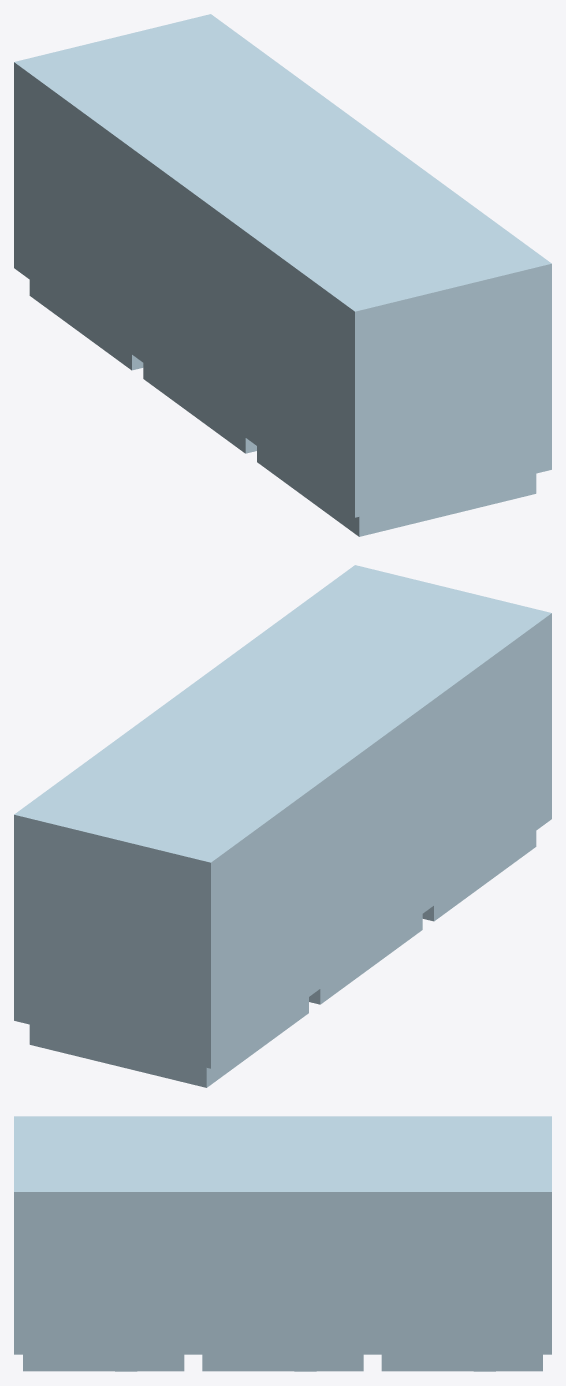
Rendered from Aktenschrank.gltf.
3 renders of one model, top to bottom at view 1: azimuth 30°, elevation 25°; view 2: azimuth 150°, elevation 25°; view 3: azimuth 270°, elevation 25°, orthographic. The views are drawn at different scales.
Parts seen in each view (by area): view 1: Part 1; view 2: Part 1; view 3: Part 1.
Part boxes in pixels (<box>): Part 1: <box>14,14,551,536</box>; Part 1: <box>14,565,551,1087</box>; Part 1: <box>14,1116,551,1371</box>.
Bounding box in the file's own units: 0.04 × 0.05 × 0.12.
